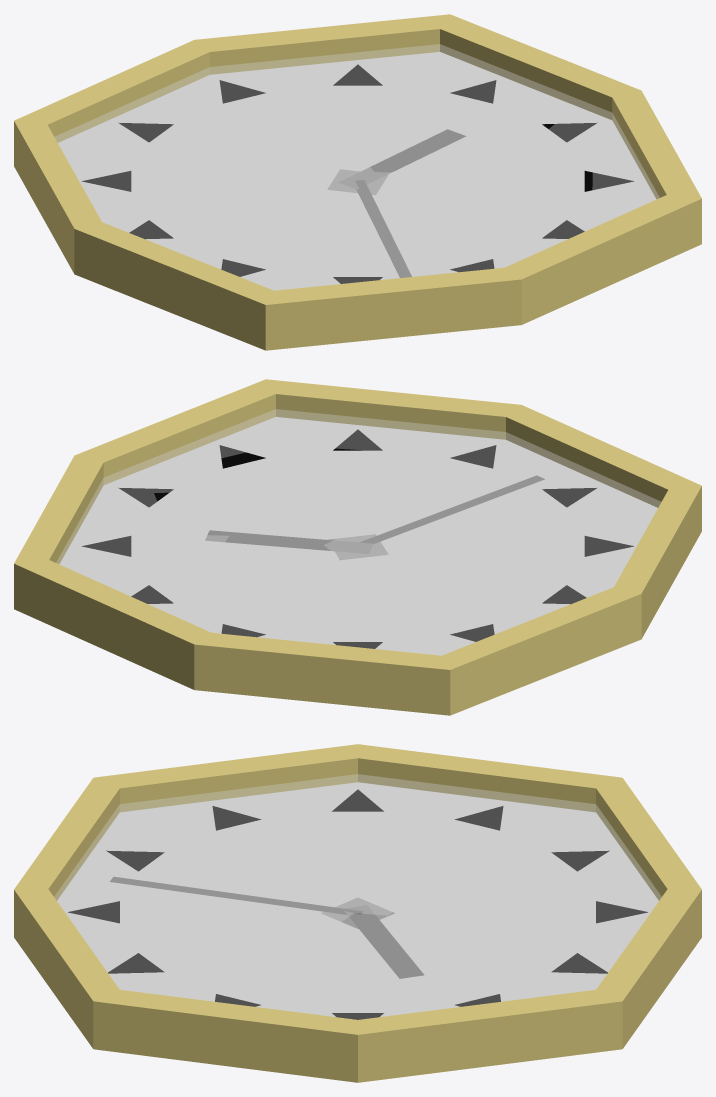
Rendered from Часы(п_н).fbx.
3 renders of one model, top to bottom at view 1: azimuth 30°, elevation 25°; view 2: azimuth 150°, elevation 25°; view 3: azimuth 270°, elevation 25°, orthographic. The views are drawn at different scales.
Visible parts, largest first — view 1: Плоскость.015; view 2: Плоскость.015; view 3: Плоскость.015.
Boxes of the visible parts, left/top/right/bottom form: Плоскость.015: left=14, top=14, right=701, bottom=350; Плоскость.015: left=14, top=379, right=701, bottom=715; Плоскость.015: left=14, top=744, right=701, bottom=1082.
Size of the model in its own units: 260 by 20 by 260.
